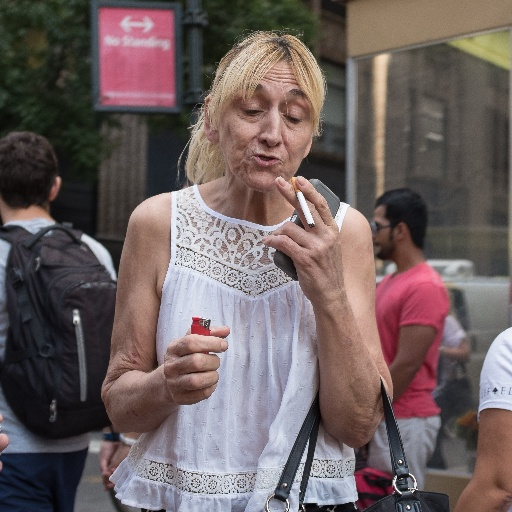hand: (261, 181, 367, 326), (161, 324, 230, 406), (96, 437, 117, 492), (106, 439, 133, 474), (0, 411, 8, 473)
